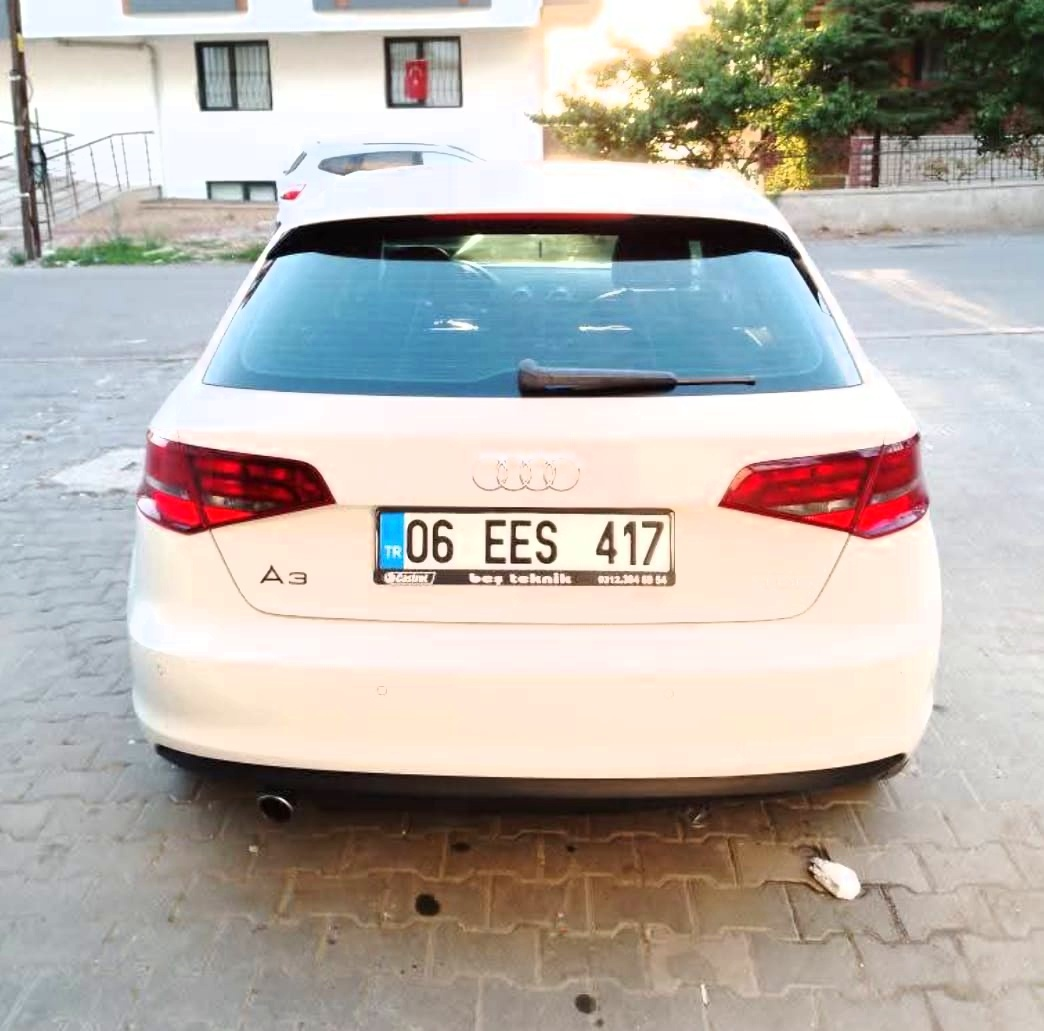plaka: (400, 497, 672, 579)
